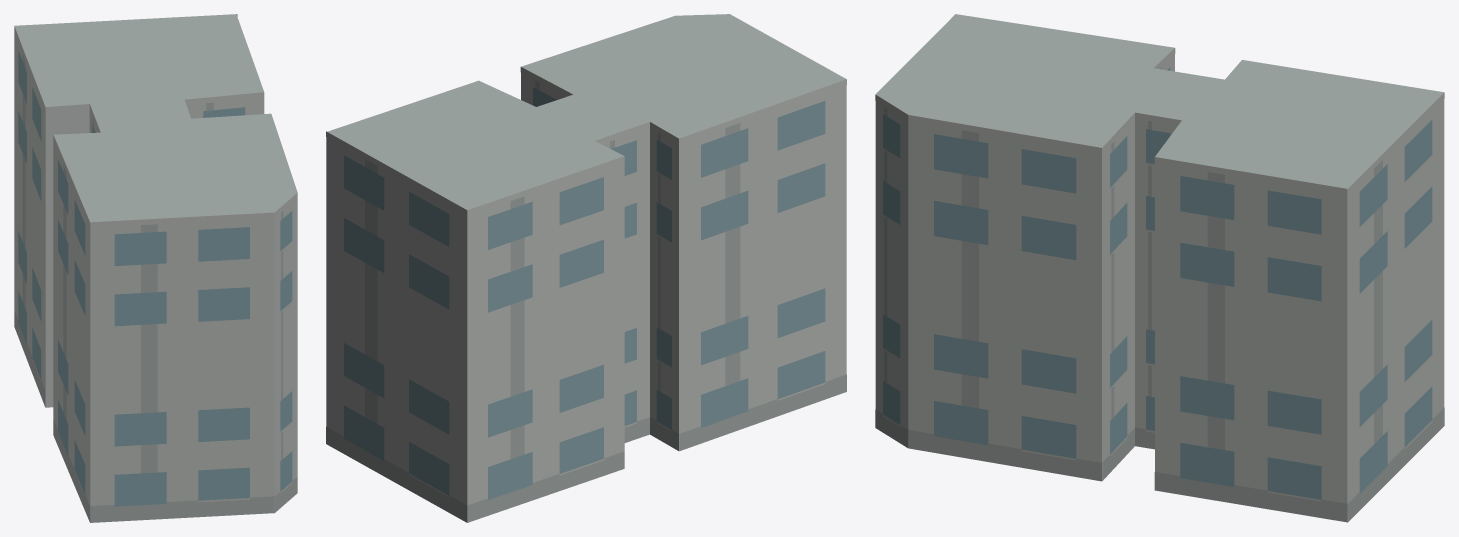
Rendered from survey-upis-32566686.glb.
3 views of the same model, side by side, from view 1: azimuth 30°, elevation 25°; view 2: azimuth 150°, elevation 25°; view 3: azimuth 270°, elevation 25° (orthographic). The views are drawn at different scales.
Parts seen in each view (by area): view 1: survey-upis-32566686.tmp; view 2: survey-upis-32566686.tmp; view 3: survey-upis-32566686.tmp.
Boxes of the visible parts, bbox=[...] form: survey-upis-32566686.tmp: bbox=[14, 14, 297, 522]; survey-upis-32566686.tmp: bbox=[326, 14, 846, 522]; survey-upis-32566686.tmp: bbox=[875, 14, 1444, 522].
Size of the model in its own units: 14.9 by 13.2 by 20.42.
